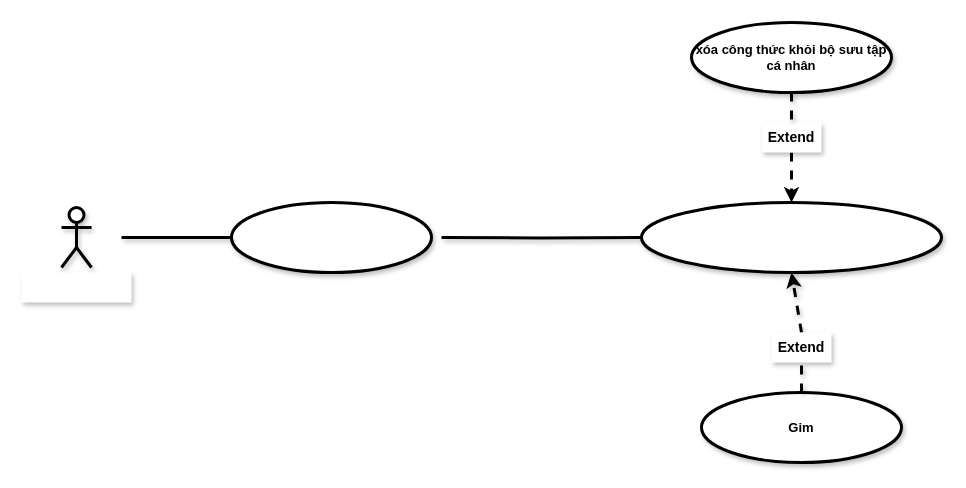
Some shapes in this 966 by 488 pixel diagram are drawn without their labels. Each missing label, with the centre of its shape:
"khách hàng" goes at pixel 77 288.
"Quản lý bộ sưa tập cá nhân." goes at pixel 792 238.
"đăng nhập" goes at pixel 332 238.
